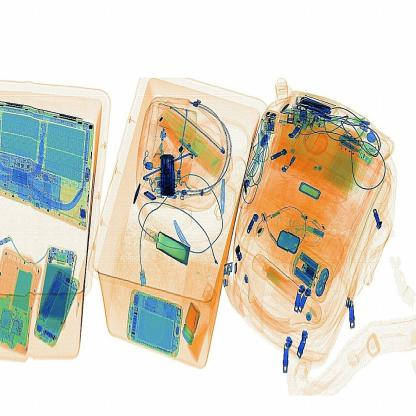scissors: (157, 147, 182, 203)
